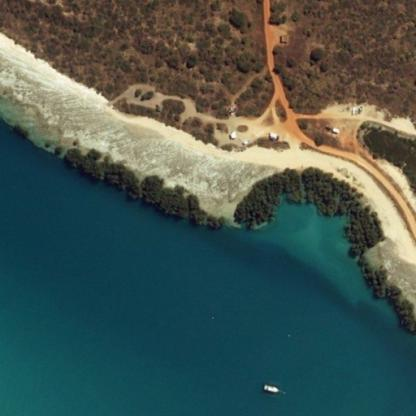ship: (246, 384, 261, 392)
